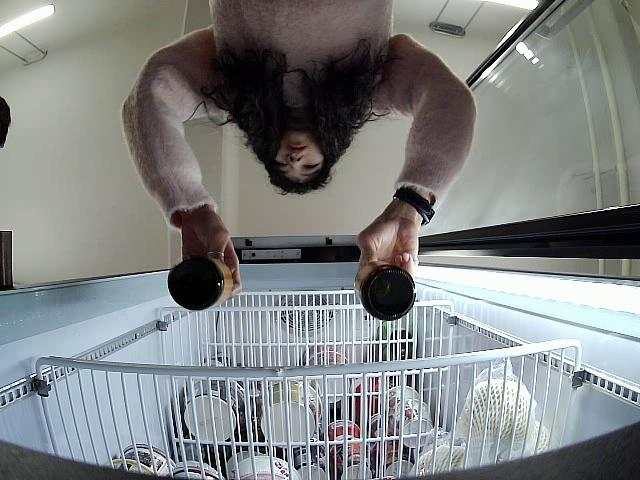00_hand: (351, 218, 419, 299), (180, 226, 242, 300)
17_vita500: (167, 253, 236, 312), (355, 259, 417, 322)
